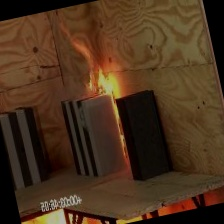fire: (62, 22, 134, 113)
